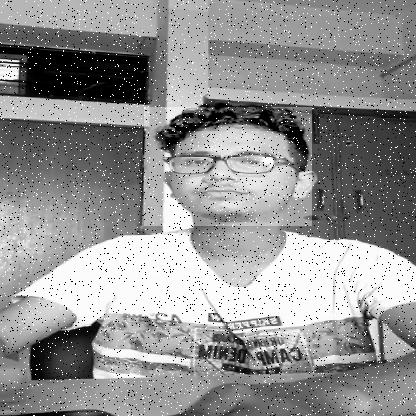Normal: (144, 107, 312, 226)
